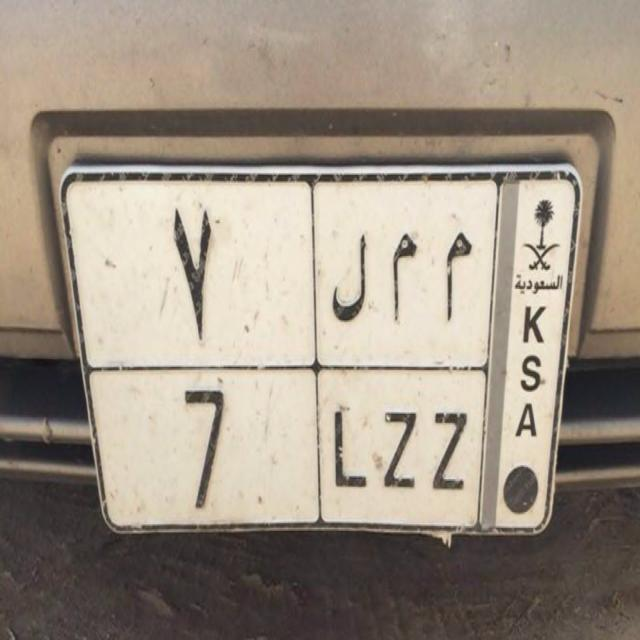license_plate: (121, 384, 475, 514)
